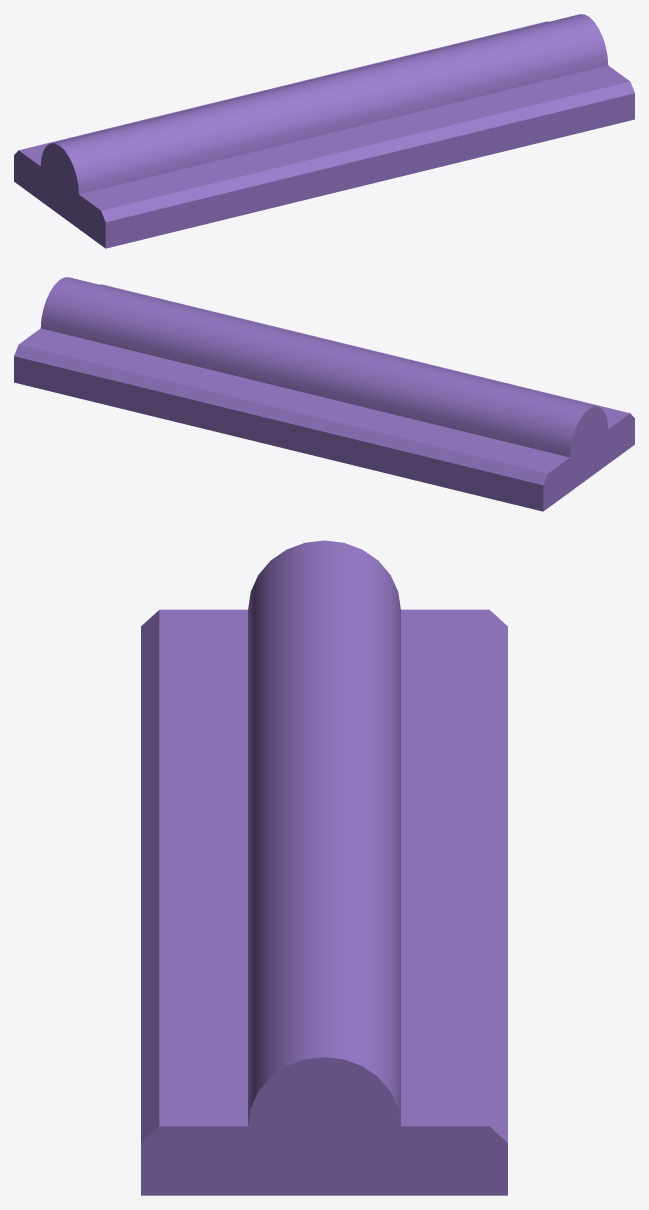
The model's file is WallTrim.fbx.
3 views of the same model, one above another, from view 1: azimuth 30°, elevation 25°; view 2: azimuth 150°, elevation 25°; view 3: azimuth 270°, elevation 25° (orthographic). The views are drawn at different scales.
Parts seen in each view (by area): view 1: WallTrim; view 2: WallTrim; view 3: WallTrim.
Boxes of the visible parts, <box> form: WallTrim: <box>14,14,634,248</box>; WallTrim: <box>14,277,634,511</box>; WallTrim: <box>141,540,507,1195</box>.
Bounding box in the file's own units: 8 × 1 × 2.4.
